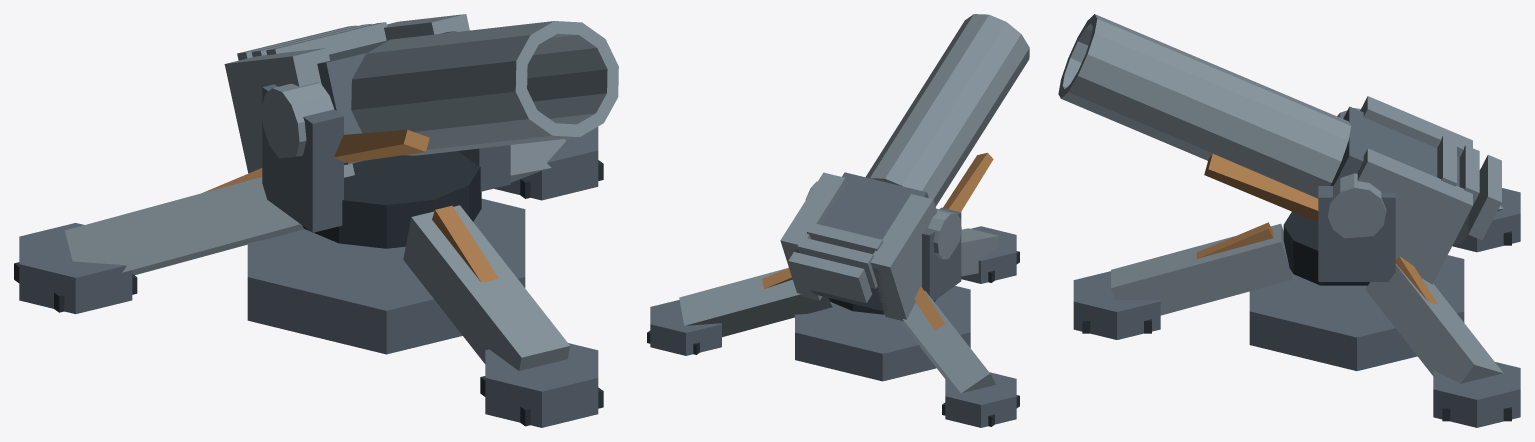
The model's file is howitzer_t2_d0.meshopt.glb.
3 renders of one model, left to right at view 1: azimuth 30°, elevation 25°; view 2: azimuth 150°, elevation 25°; view 3: azimuth 270°, elevation 25°, orthographic. The views are drawn at different scales.
Visible parts, largest first — view 1: ROOT_ARMOR_GEOMETRY; view 2: ROOT_ARMOR_GEOMETRY; view 3: ROOT_ARMOR_GEOMETRY.
Part boxes in pixels (x1,y1,x2,y2): ROOT_ARMOR_GEOMETRY: (14,14,618,427); ROOT_ARMOR_GEOMETRY: (647,14,1029,427); ROOT_ARMOR_GEOMETRY: (1058,14,1520,427).
Size of the model in its own units: 3.33 by 2.17 by 2.99.
